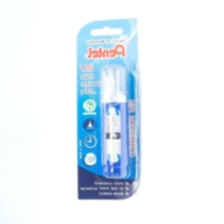book: (74, 16, 142, 201)
correction_fluid: (102, 63, 131, 179)
